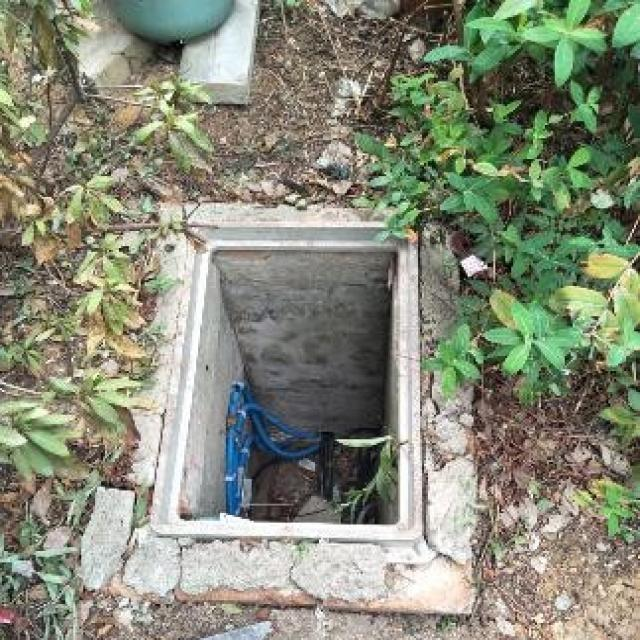Faulty: (150, 220, 428, 538)
